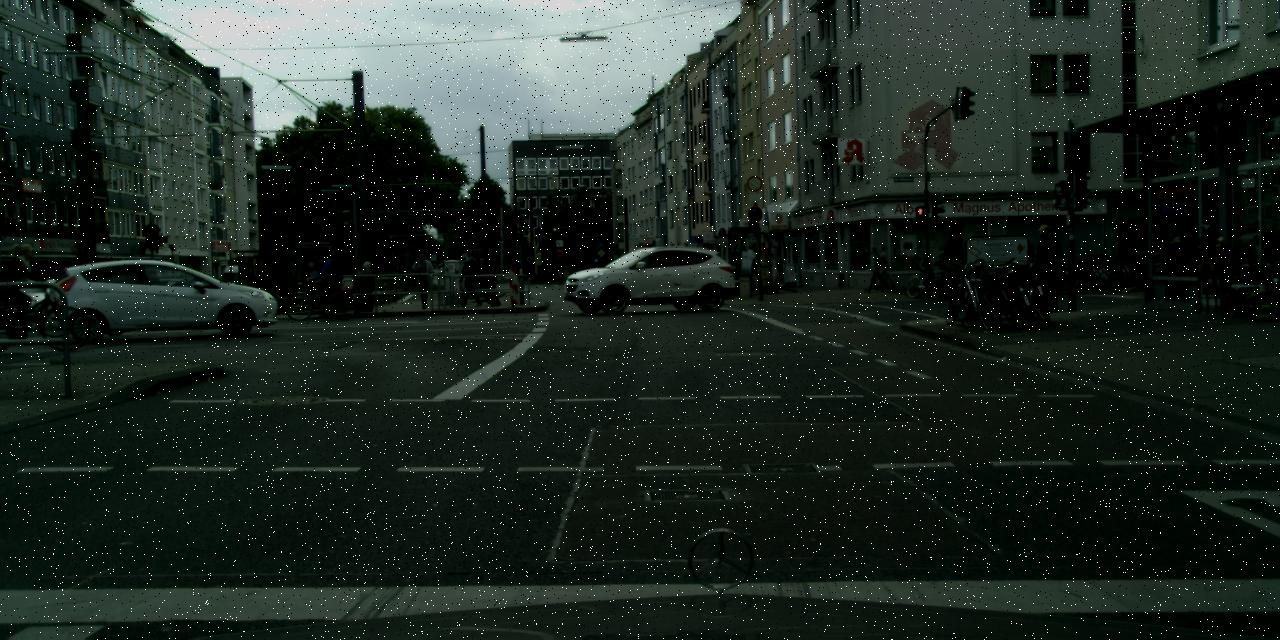ped: (1027, 225, 1062, 312), (66, 241, 101, 327), (4, 243, 38, 329), (312, 251, 335, 309), (412, 251, 434, 307), (356, 261, 376, 313), (460, 257, 480, 307), (866, 246, 884, 292), (874, 244, 892, 288), (278, 264, 291, 297)
